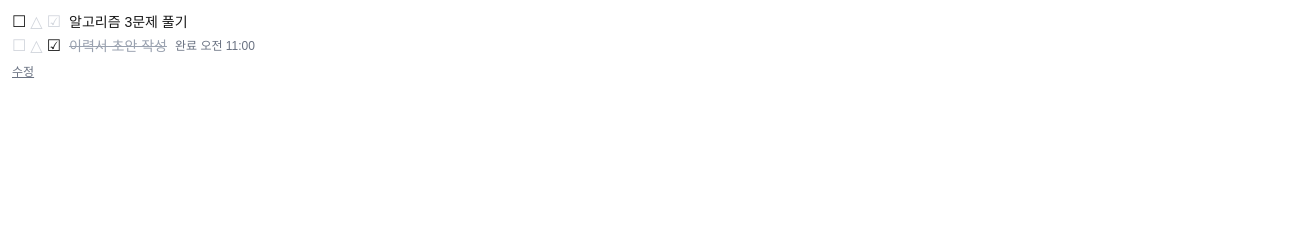
Test: GoalsEditor › adds a new empty input when "+ 항목 추가" is clicked
The image size is (1304, 229).
Click the button "수정": (23, 72) [12,64,34,80]
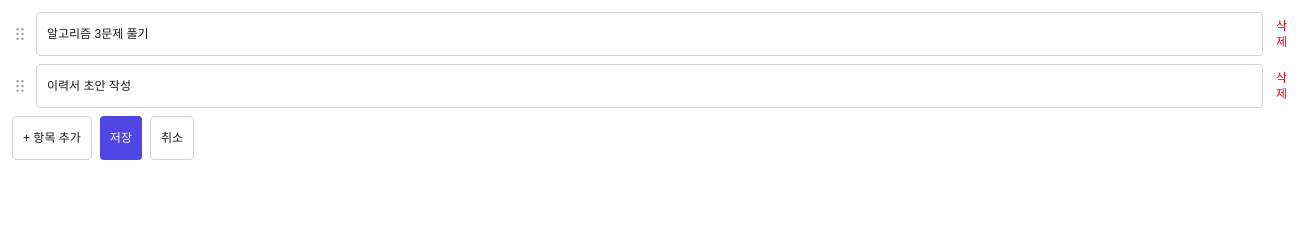
Click the button "+ 항목 추가": (52, 138) [12,116,92,160]
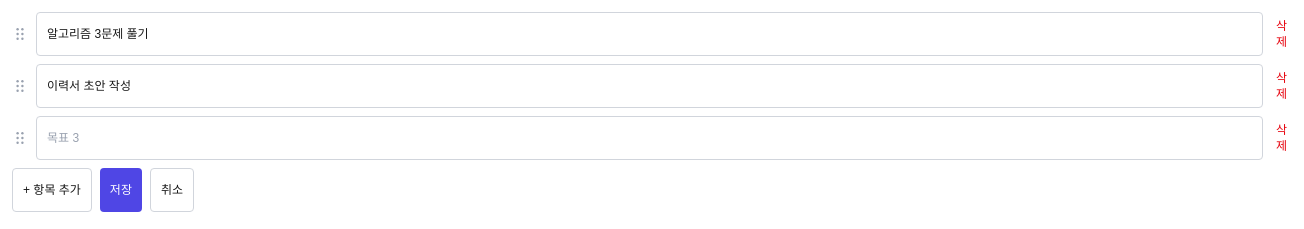
Result: the field with placeholder "목표 3" is shown at [36,116,1263,160]
